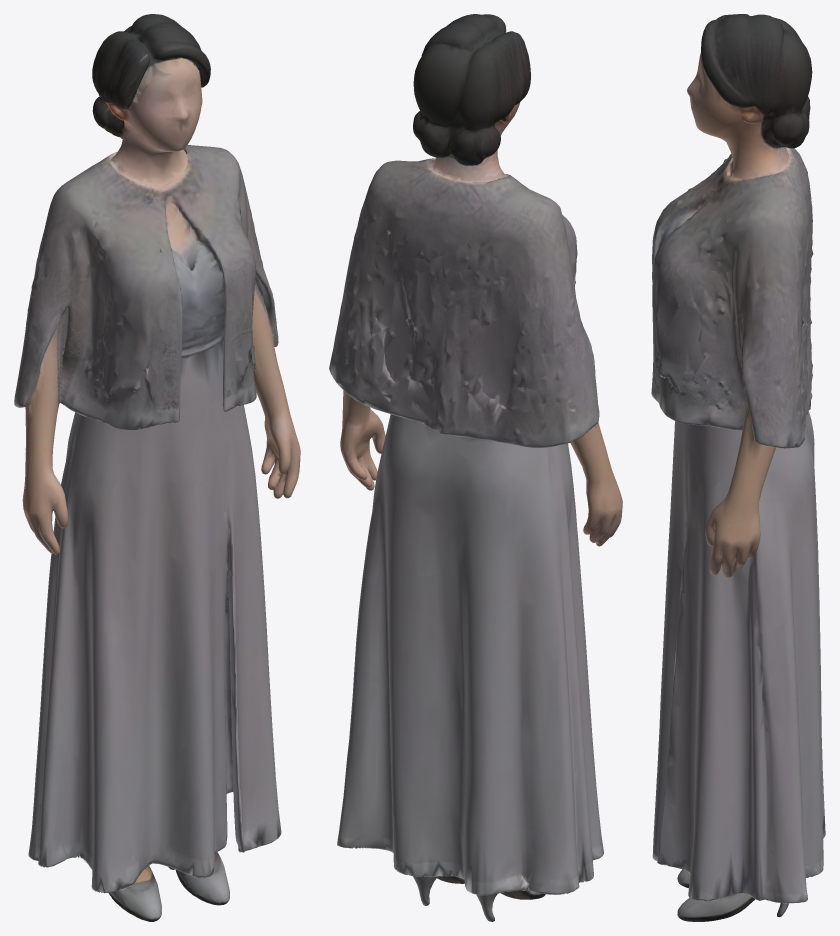
The model's file is woman-01.glb.
The picture shows the model from 3 angles, left to right: view 1: azimuth 30°, elevation 25°; view 2: azimuth 150°, elevation 25°; view 3: azimuth 270°, elevation 25°; orthographic projection. The views are drawn at different scales.
Parts seen in each view (by area): view 1: tripo_node_2dc3248b-7cfb-42d6-abf3-11772b836960; view 2: tripo_node_2dc3248b-7cfb-42d6-abf3-11772b836960; view 3: tripo_node_2dc3248b-7cfb-42d6-abf3-11772b836960.
Boxes of the visible parts, x1=… form: tripo_node_2dc3248b-7cfb-42d6-abf3-11772b836960: x1=14, y1=14, x2=300, y2=921; tripo_node_2dc3248b-7cfb-42d6-abf3-11772b836960: x1=329, y1=14, x2=622, y2=921; tripo_node_2dc3248b-7cfb-42d6-abf3-11772b836960: x1=651, y1=14, x2=825, y2=921.
Bounding box in the file's own units: 0.3262 × 0.9999 × 0.1781.
1 material, 1 textured.
